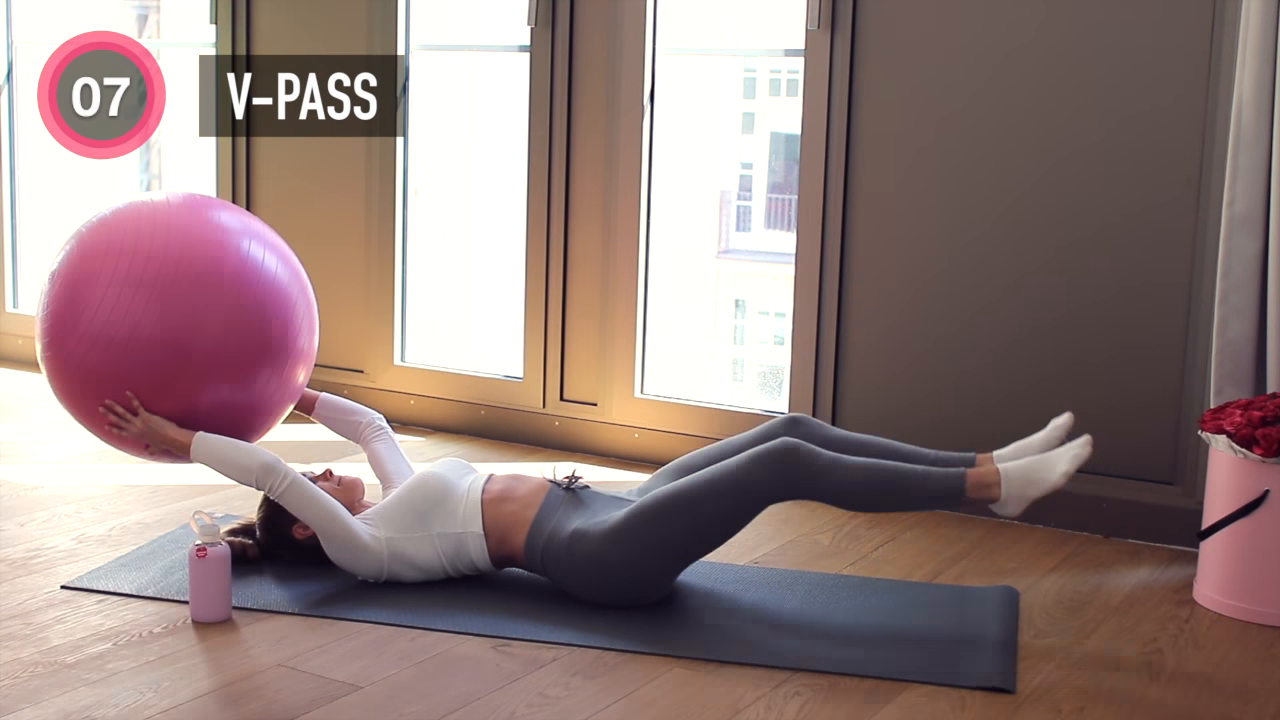yogaball: (31, 188, 325, 477)
